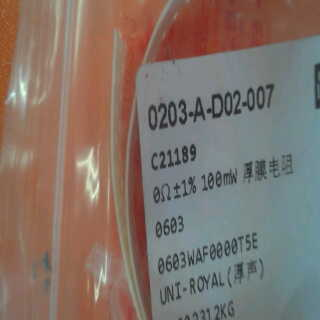0R: (149, 170, 200, 239)
